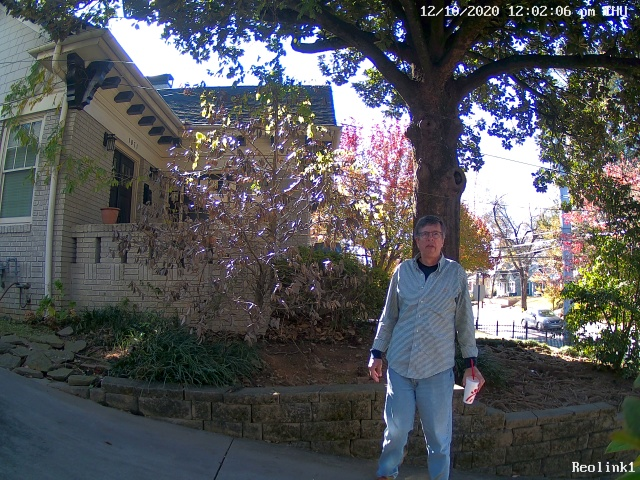person: (356, 199, 488, 476)
